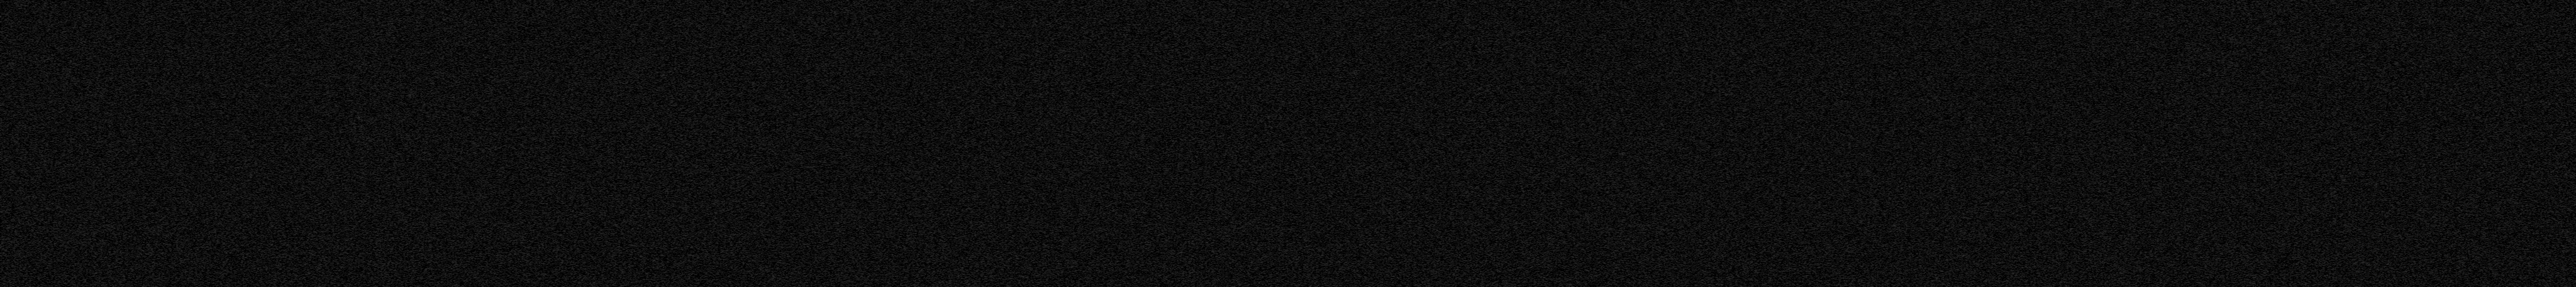wv_am: (2081, 0, 2085, 287)
wv_cw: (871, 0, 874, 287), (2293, 0, 2297, 287), (1659, 0, 1663, 287)
wv_lsb: (1055, 131, 1058, 174), (1055, 16, 1058, 43), (1055, 212, 1058, 236), (1055, 107, 1058, 131), (1055, 43, 1058, 64), (1055, 269, 1058, 287), (1055, 254, 1058, 269), (1055, 64, 1058, 77), (1055, 84, 1058, 95), (1055, 184, 1058, 194), (1055, 202, 1058, 210), (1055, 243, 1058, 249), (1055, 236, 1058, 243), (1055, 77, 1058, 84), (1055, 102, 1058, 107), (1055, 251, 1058, 254), (1055, 194, 1058, 197), (1055, 177, 1058, 180), (1055, 210, 1058, 212), (1055, 198, 1058, 200), (1055, 180, 1058, 182), (1055, 98, 1058, 100), (1055, 97, 1058, 98)
wv_usb: (2343, 195, 2348, 266), (2344, 2, 2348, 69), (2218, 161, 2221, 175), (2344, 121, 2348, 136), (2218, 30, 2221, 43), (2218, 67, 2221, 79), (2218, 205, 2221, 215), (2218, 2, 2221, 11), (2218, 220, 2221, 230), (2218, 262, 2221, 271), (2218, 43, 2221, 51), (2218, 254, 2221, 262), (2344, 266, 2346, 280), (2218, 13, 2221, 20), (2344, 146, 2348, 153), (2218, 195, 2221, 200), (2218, 239, 2219, 249), (2344, 141, 2348, 146), (2344, 136, 2348, 141), (2218, 202, 2221, 205), (2218, 182, 2221, 185), (2218, 177, 2221, 180), (2218, 23, 2221, 26), (2344, 153, 2346, 159), (2218, 216, 2221, 220), (2218, 190, 2219, 195), (2218, 249, 2219, 254), (2344, 162, 2346, 167), (2218, 187, 2219, 190), (2218, 80, 2219, 84), (2218, 56, 2219, 59), (2218, 20, 2221, 21), (2344, 192, 2346, 195), (2218, 236, 2219, 239), (2344, 72, 2346, 75), (2218, 231, 2221, 233), (2344, 282, 2346, 284), (2344, 189, 2346, 190), (2344, 179, 2346, 180), (2344, 69, 2346, 71)
wv_wbfm: (1111, 82, 1150, 213), (1102, 241, 1153, 287), (1104, 0, 1157, 23), (1106, 21, 1157, 33), (1114, 69, 1138, 87), (1127, 59, 1145, 74), (1120, 213, 1143, 225), (1120, 48, 1135, 64), (1130, 225, 1145, 236), (1124, 225, 1134, 236), (1127, 34, 1138, 43), (1117, 220, 1129, 226), (1134, 235, 1148, 238), (1132, 239, 1140, 244), (1122, 236, 1130, 241), (1102, 30, 1114, 33), (1132, 54, 1138, 59), (1120, 46, 1127, 51), (1115, 236, 1122, 241), (1134, 49, 1142, 52), (1114, 41, 1122, 44), (1119, 41, 1127, 44), (1125, 39, 1134, 43), (1122, 210, 1130, 213), (1137, 80, 1145, 84), (1119, 231, 1124, 236), (1122, 64, 1127, 69), (1142, 49, 1148, 52), (1114, 48, 1120, 51), (1145, 44, 1152, 48), (1138, 44, 1145, 48), (1134, 44, 1140, 48), (1137, 38, 1143, 41), (1114, 34, 1120, 38), (1120, 34, 1127, 38), (1132, 31, 1138, 34), (1138, 239, 1145, 243), (1127, 236, 1134, 239), (1109, 225, 1122, 226), (1115, 59, 1122, 62), (1127, 43, 1132, 46), (1109, 41, 1114, 44), (1143, 38, 1148, 41), (1109, 34, 1114, 38), (1119, 228, 1124, 231), (1114, 216, 1119, 220), (1115, 64, 1120, 67), (1134, 74, 1142, 75), (1147, 56, 1150, 59), (1140, 56, 1143, 59), (1115, 52, 1122, 54), (1127, 46, 1134, 48), (1102, 34, 1106, 38), (1138, 33, 1145, 34), (1147, 80, 1150, 84), (1112, 71, 1119, 72), (1111, 64, 1114, 67), (1142, 62, 1148, 64), (1111, 52, 1115, 54), (1109, 48, 1114, 49), (1152, 44, 1157, 46), (1124, 38, 1129, 39), (1145, 33, 1150, 34), (1111, 238, 1115, 239), (1119, 215, 1124, 216), (1143, 74, 1148, 75), (1150, 51, 1153, 52), (1106, 238, 1109, 239), (1138, 75, 1142, 77)
